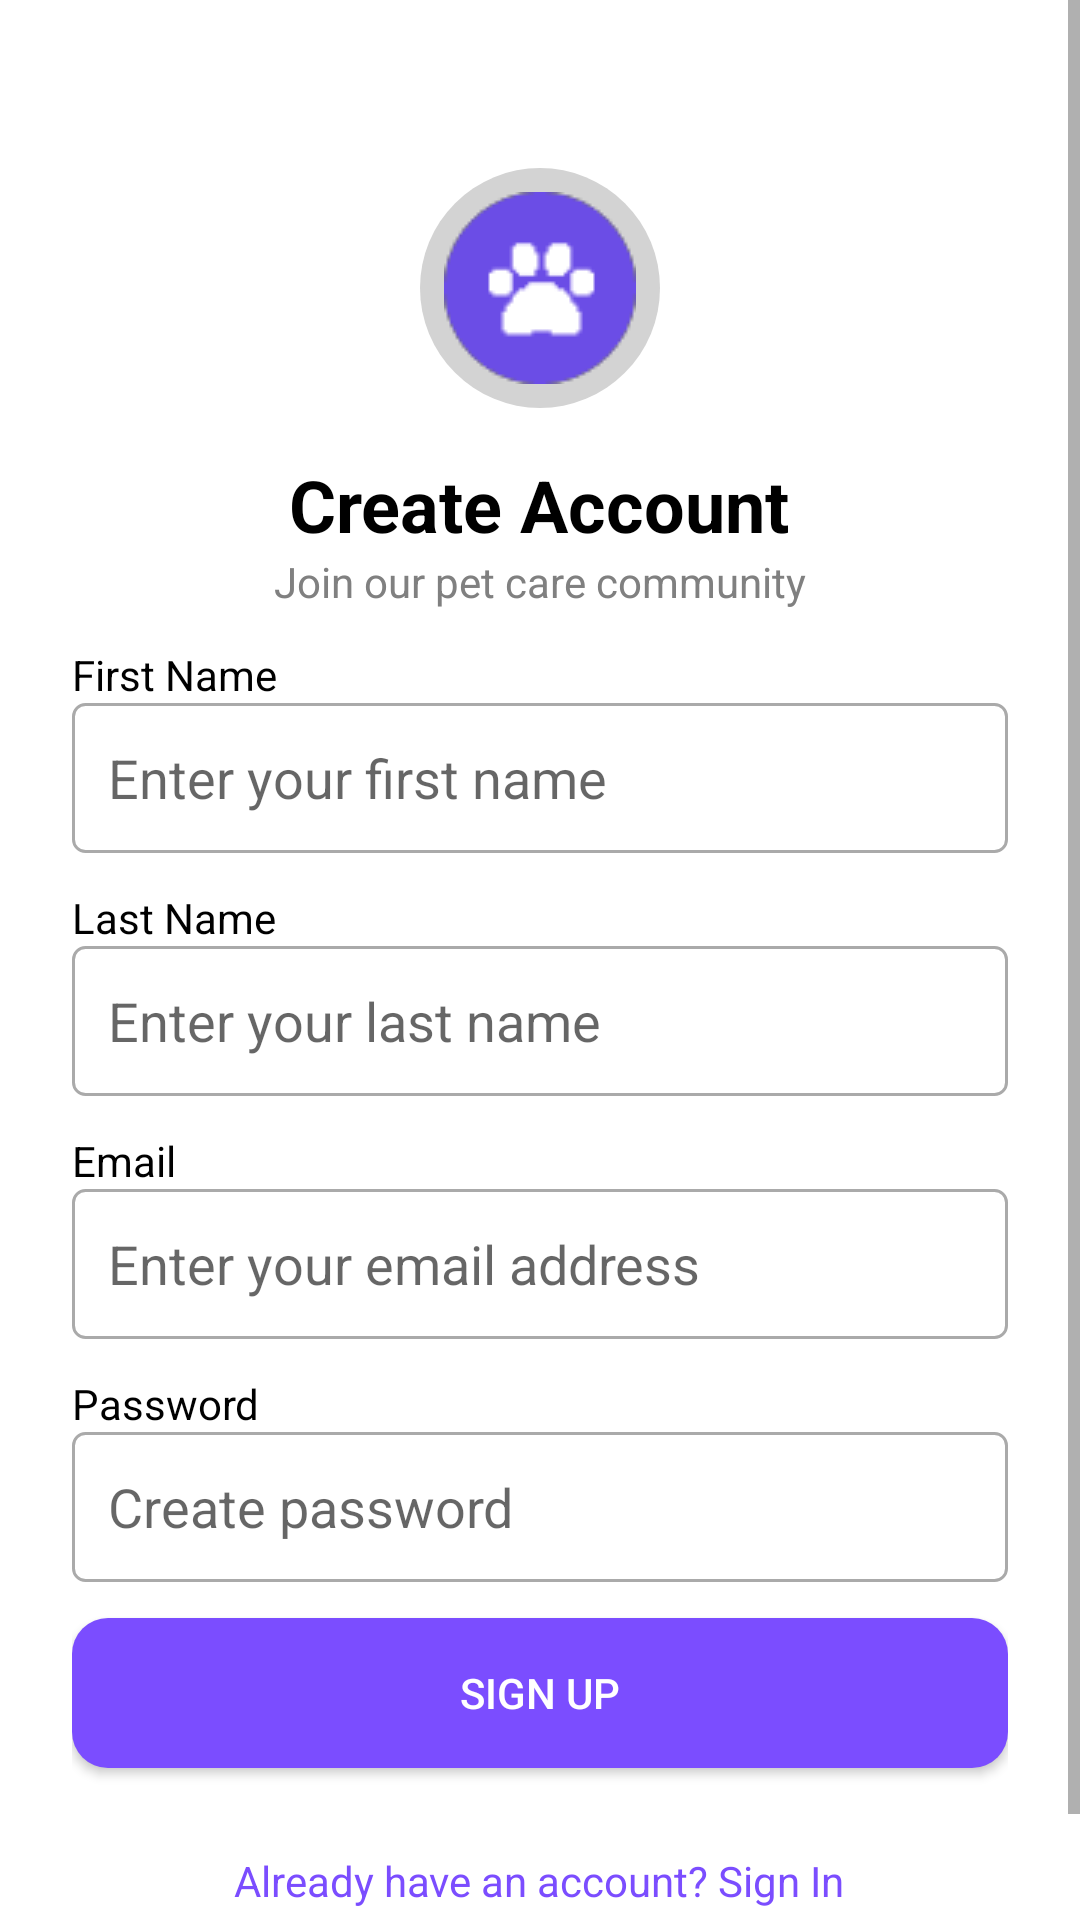

Locate icon controls on the screen. Image size 1080px×1920px, boxes as bbox(x1, y1, x2, y2).
App Icon: bbox(444, 192, 636, 384)
